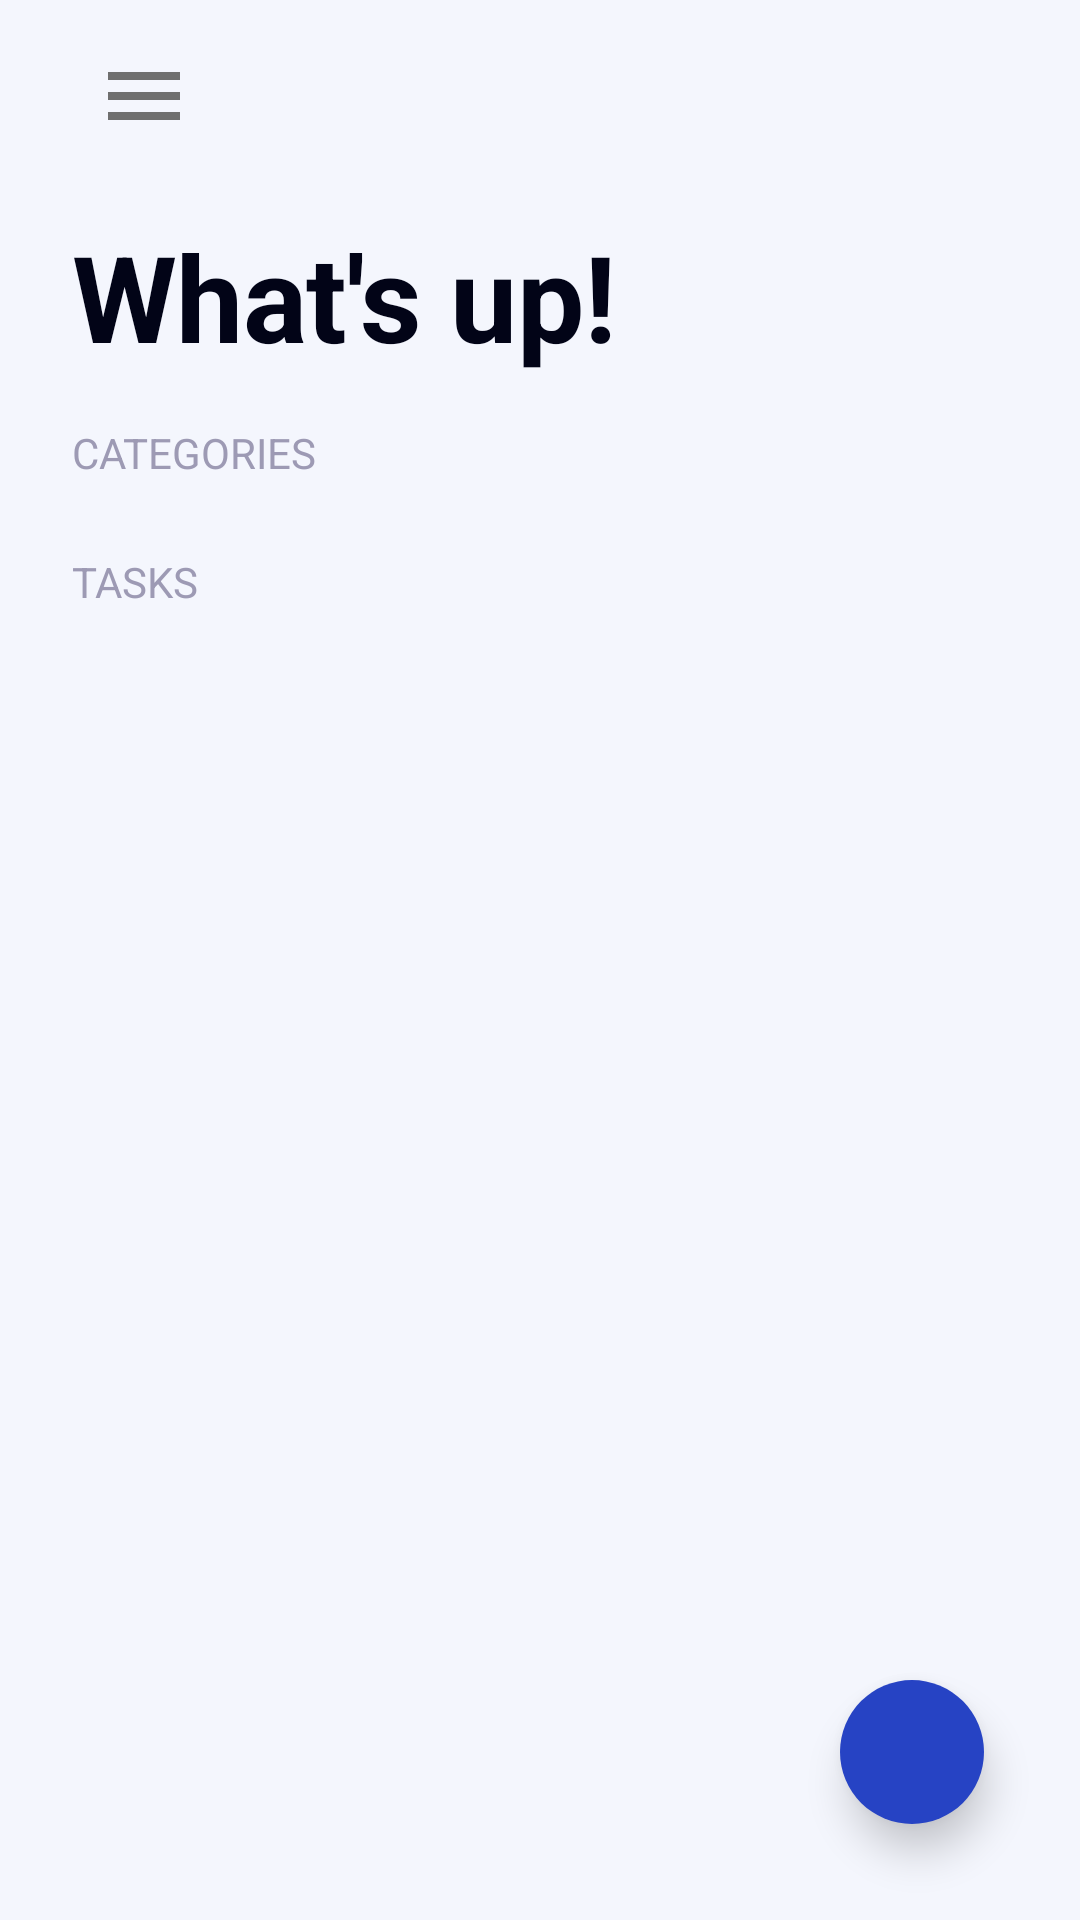

Icons on this 1080px x 1920px Android screen, each with its box as (x1,y1,x2,y2):
Open menu: (108,72,180,120)
